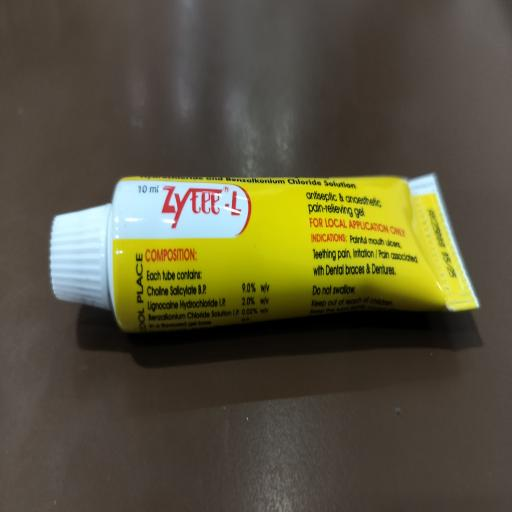Zytee-L: (162, 184, 250, 234)
medicine: (52, 178, 464, 313)
